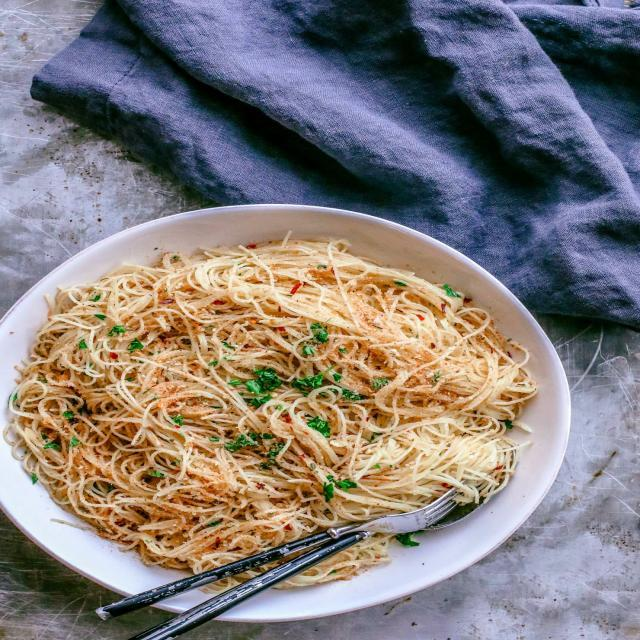Oil pasta: (25, 210, 592, 605)
